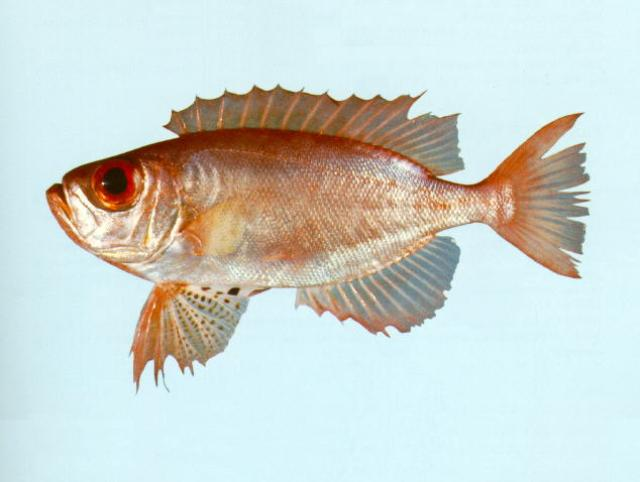Mulut: (29, 165, 92, 243)
Sirip Anal: (296, 232, 462, 338)
Sirip Dada: (188, 198, 262, 263)
Sirip Ekor: (492, 104, 594, 284)
Sirip Perut: (130, 275, 252, 391)
Sirip Punggung: (163, 85, 469, 175)
